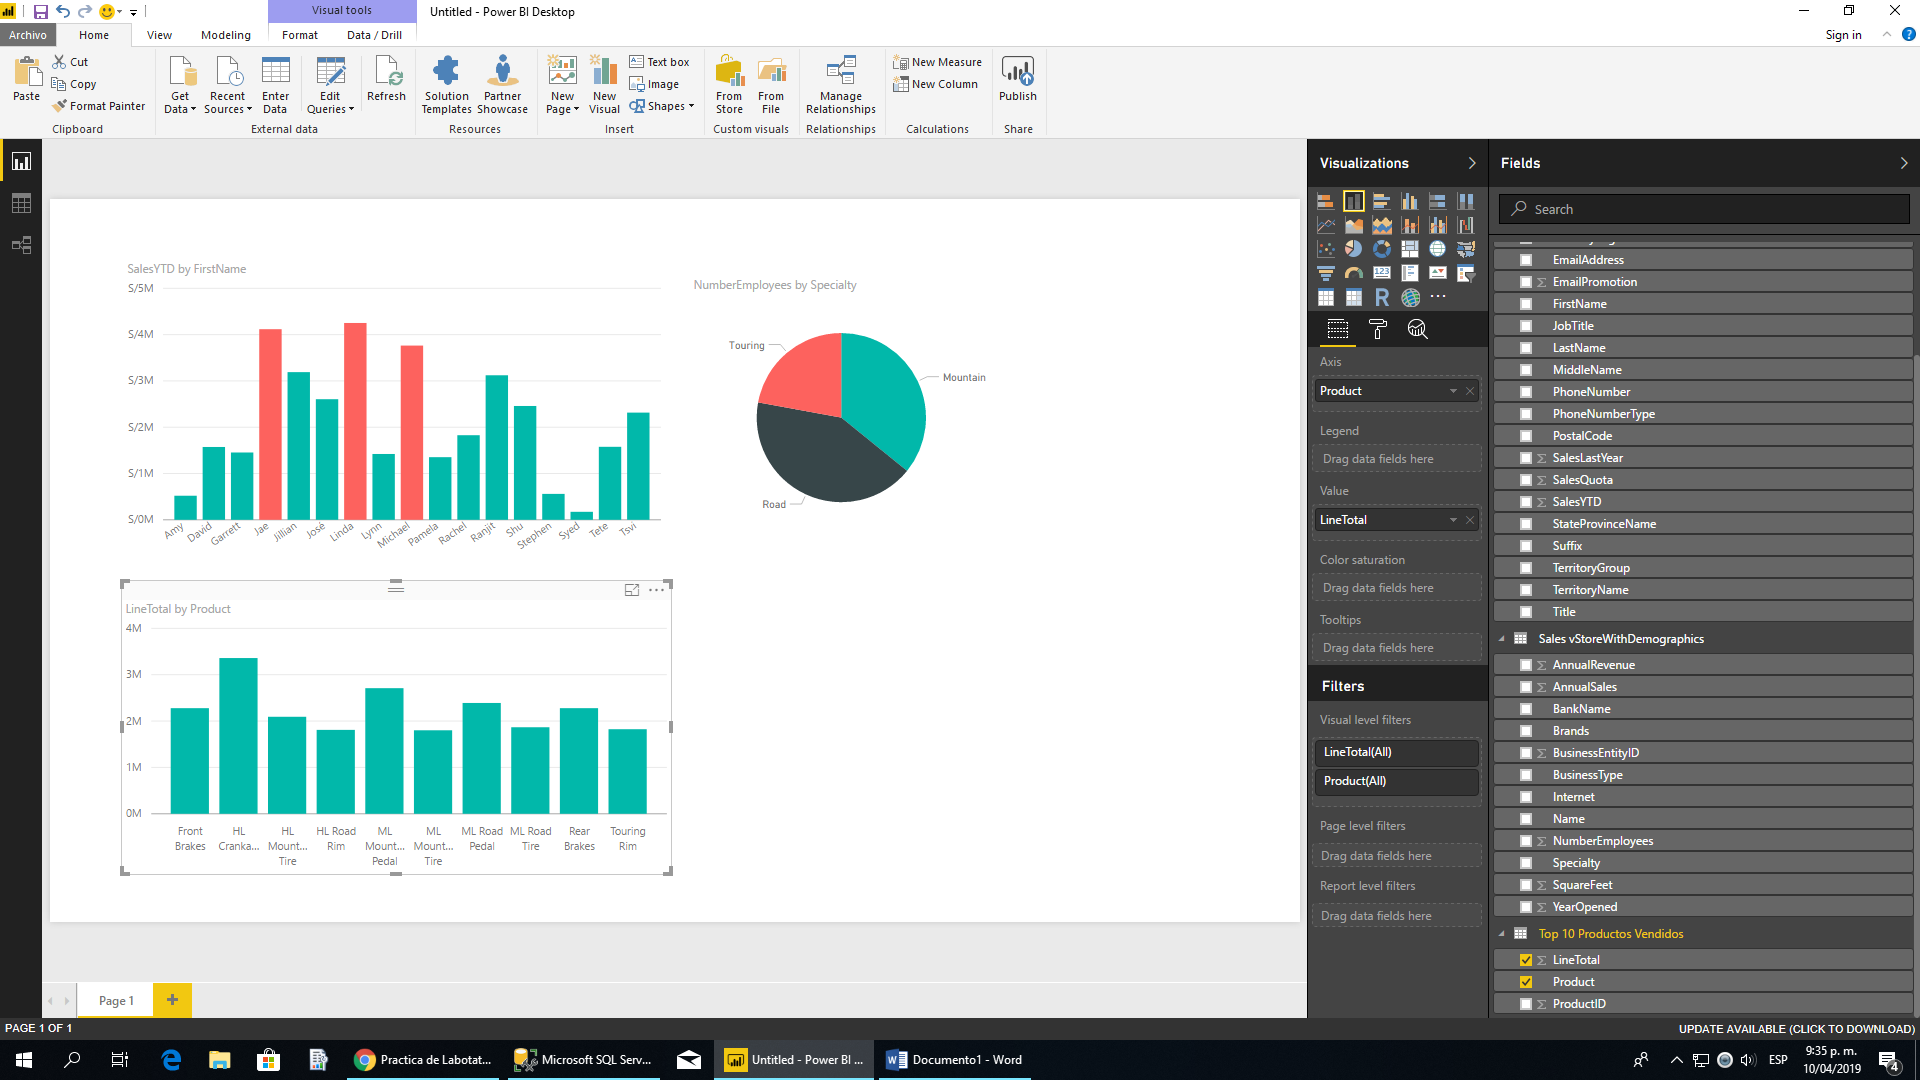

What the dashboard file says about the page in this screenshot:
{"tool":"powerbi","page":{"name":"Ventas","canvas":[1280,720],"ordinal":0},"visuals":[{"type":"columnChart","fields":{"Category":["Sales vSalesPerson.FirstName"],"Y":["Sum(Sales vSalesPerson.SalesYTD)"]},"box":[74.8,42,556,307.2],"z":1},{"type":"pieChart","fields":{"Category":["Sales vStoreWithDemographics.Specialty"],"Y":["Sum(Sales vStoreWithDemographics.NumberEmployees)"]},"box":[654.3,58.4,312.3,274.4],"z":2},{"type":"pieChart","fields":{"Category":["Top 10 Productos Vendidos.Product"],"Y":["Sum(Top 10 Productos Vendidos.LineTotal)"]},"box":[72.7,390.1,558.1,323.6],"z":3},{"type":"clusteredColumnChart","fields":{"Y":["Sum(Sales vStoreWithDemographics.AnnualRevenue)","Sum(Sales vStoreWithDemographics.AnnualSales)"]},"box":[673.8,398.3,335.9,303.1],"z":4}]}

Visuals, with their boxes on the page's 1280x720 design canvas (x1, y1, x2, y2). These are canvas units, not pixel positions in the 1920x1080 screenshot, which may show the page scaled, cropped or inside an application window:
columnChart - Sales vSalesPerson.FirstName x Sum(Sales vSalesPerson.SalesYTD): pyautogui.locateOnScreen(75, 42, 631, 349)
pieChart - Sales vStoreWithDemographics.Specialty x Sum(Sales vStoreWithDemographics.NumberEmployees): pyautogui.locateOnScreen(654, 58, 967, 333)
pieChart - Top 10 Productos Vendidos.Product x Sum(Top 10 Productos Vendidos.LineTotal): pyautogui.locateOnScreen(73, 390, 631, 714)
clusteredColumnChart - Sum(Sales vStoreWithDemographics.AnnualRevenue) x Sum(Sales vStoreWithDemographics.AnnualSales): pyautogui.locateOnScreen(674, 398, 1010, 701)
